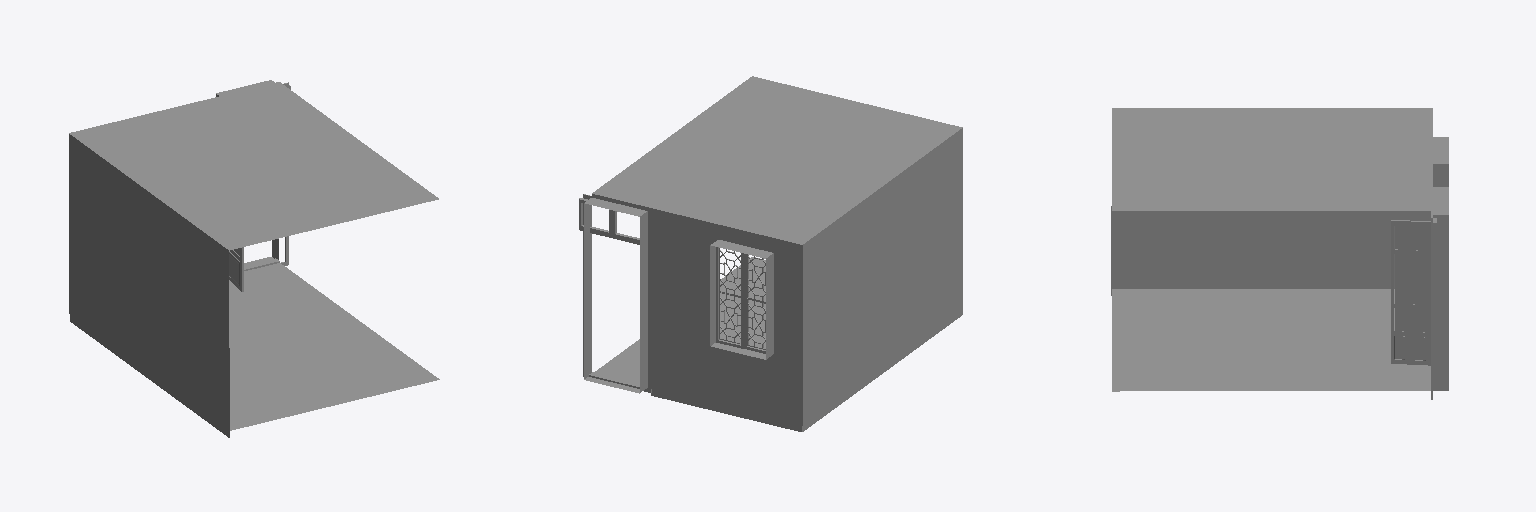
The model's file is kitchen2_layout.obj.
3 views of the same model, side by side, from view 1: azimuth 30°, elevation 25°; view 2: azimuth 150°, elevation 25°; view 3: azimuth 270°, elevation 25° (orthographic).
Parts seen in each view (by area): view 1: wall.041, wall.042, door; view 2: wall.041, window.031, wall.042, door; view 3: wall.041, wall.042, door.
Part boxes in pixels (x1,y1,x2,y2): wall.041: (69,80,439,430); wall.042: (70,315,229,437); door: (229,82,290,291); wall.041: (584,76,962,425); window.031: (715,235,777,357); wall.042: (651,309,962,431); door: (579,194,651,392); wall.041: (1112,108,1448,391); wall.042: (1111,206,1430,295); door: (1391,211,1436,399).
Size of the model in its own units: 3.86 by 3.12 by 5.08.